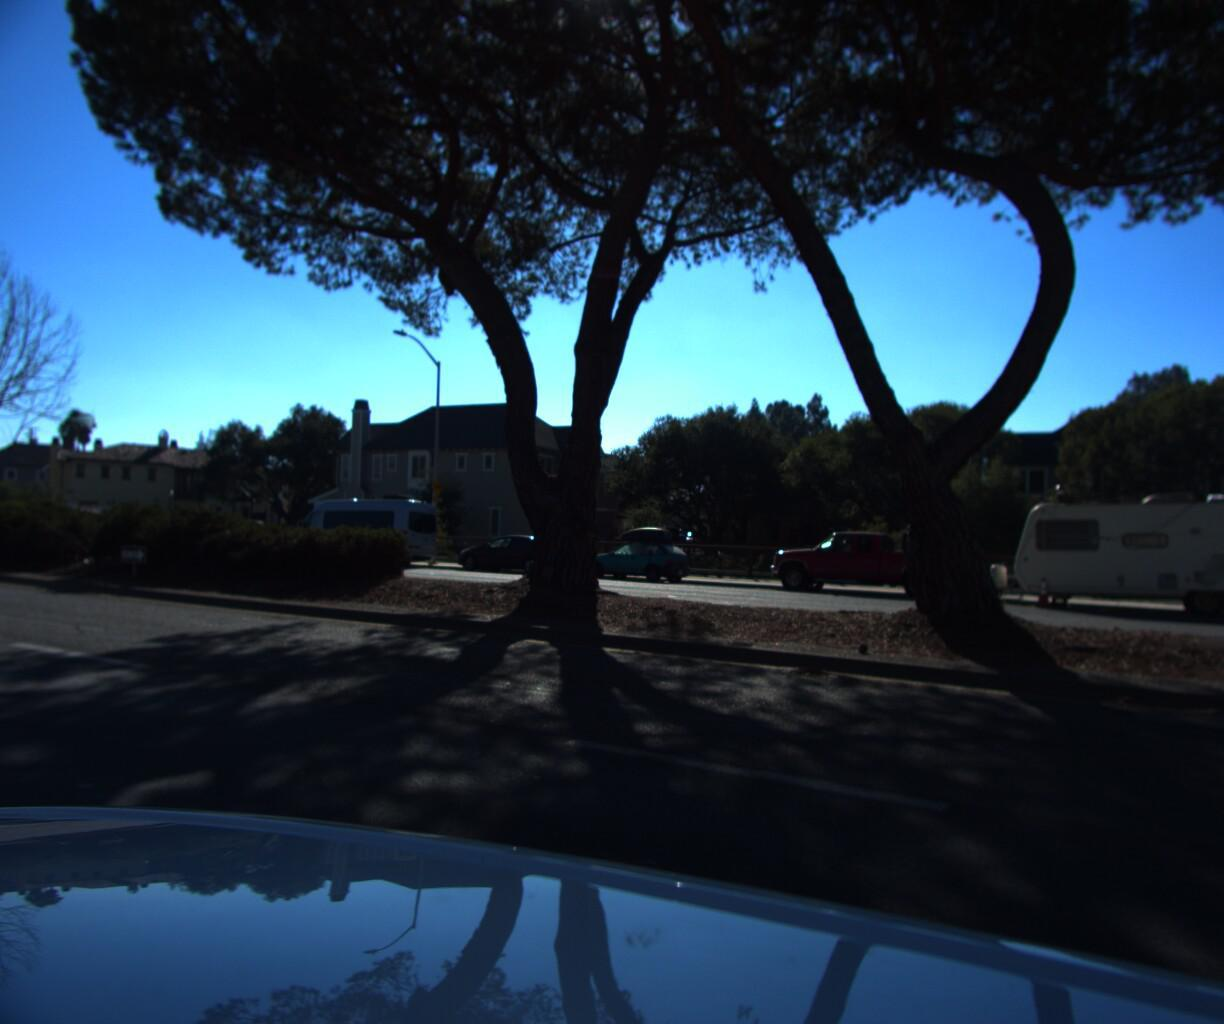car: (755, 523, 979, 603), (271, 491, 445, 571), (569, 523, 698, 587), (443, 530, 582, 578)
other_vehicle: (995, 470, 1224, 634)
